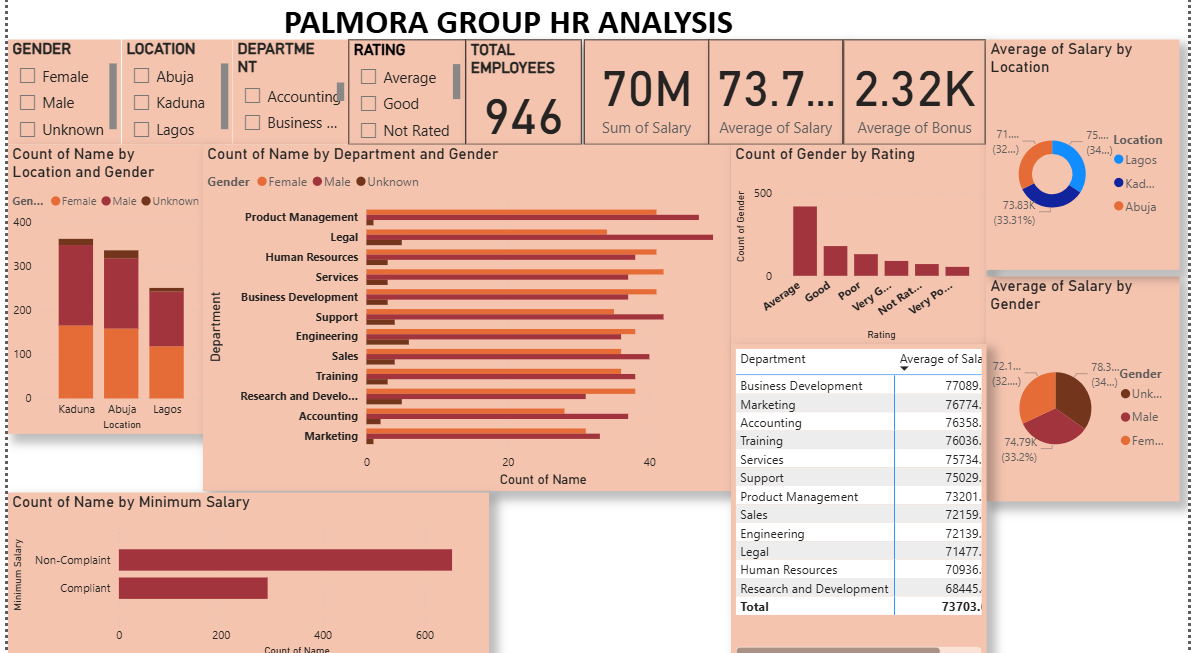

The dashboard page shown, as its layout file describes it:
{"tool":"powerbi","page":{"name":"Page 1","canvas":[1280,720],"ordinal":0},"visuals":[{"type":"textbox","box":[244.2,0,597.7,71.5],"z":0},{"type":"slicer","title":"GENDER","fields":{"Values":["Palmoria+Group+emp-data.Gender"]},"box":[0,47.1,122.9,114.3],"z":1000},{"type":"slicer","title":"LOCATION","fields":{"Values":["Palmoria+Group+emp-data.Location"]},"box":[124.3,47.1,120,114.3],"z":2000},{"type":"slicer","title":"DEPARTMENT","fields":{"Values":["Palmoria+Group+emp-data.Department"]},"box":[244.3,47.1,125.7,114.3],"z":3000},{"type":"slicer","title":"RATING","fields":{"Values":["Palmoria+Group+emp-data.Rating"]},"box":[370,47.1,127.1,114.3],"z":4000},{"type":"card","title":"TOTAL EMPLOYEES","fields":{"Values":["Palmoria+Group+emp-data.Name"]},"box":[497.1,47.1,125.7,114.3],"z":5000},{"type":"card","fields":{"Values":["Palmoria+Group+emp-data.Salary"]},"box":[624.3,47.1,135.7,114.3],"z":6000},{"type":"card","fields":{"Values":["Palmoria+Group+emp-data.Salary"]},"box":[760,47,147,114],"z":7000},{"type":"card","fields":{"Values":["Palmoria+Group+emp-data.Bonus"]},"box":[907.1,47.1,154.3,114.3],"z":8000},{"type":"columnChart","fields":{"Category":["Palmoria+Group+emp-data.Location"],"Y":["Palmoria+Group+emp-data.Name"],"Series":["Palmoria+Group+emp-data.Gender"]},"box":[0,161.4,217.1,314.3],"z":9000},{"type":"clusteredBarChart","fields":{"Category":["Palmoria+Group+emp-data.Department"],"Y":["Palmoria+Group+emp-data.Name"],"Series":["Palmoria+Group+emp-data.Gender"]},"box":[211.4,161.4,572.9,375.7],"z":10000},{"type":"columnChart","fields":{"Category":["Palmoria+Group+emp-data.Rating"],"Y":["Palmoria+Group+emp-data.Gender"]},"box":[784.3,161.4,277.1,217.1],"z":11000},{"type":"pieChart","fields":{"Category":["Palmoria+Group+emp-data.Gender"],"Y":["Palmoria+Group+emp-data.Salary"]},"box":[1062,304,210,244],"z":12000},{"type":"donutChart","fields":{"Category":["Palmoria+Group+emp-data.Location"],"Y":["Palmoria+Group+emp-data.Salary"]},"box":[1061.4,47.1,210,250],"z":13000},{"type":"pivotTable","fields":{"Rows":["Palmoria+Group+emp-data.Department"],"Values":["Palmoria+Group+emp-data.Salary"]},"box":[784.3,377.1,277.1,342.9],"z":14000},{"type":"clusteredBarChart","fields":{"Category":["Palmoria+Group+emp-data.Minimum Salary"],"Y":["Palmoria+Group+emp-data.Name"]},"box":[0,538,522,182],"z":15000}]}

Visuals, with their boxes on the page's 1280x720 design canvas (x1, y1, x2, y2). These are canvas units, not pixel positions in the 1197x653 screenshot, which may show the page scaled, cropped or inside an application window:
textbox: BBox(244, 0, 842, 72)
"GENDER" slicer: BBox(0, 47, 123, 161)
"LOCATION" slicer: BBox(124, 47, 244, 161)
"DEPARTMENT" slicer: BBox(244, 47, 370, 161)
"RATING" slicer: BBox(370, 47, 497, 161)
"TOTAL EMPLOYEES" card: BBox(497, 47, 623, 161)
card - Palmoria+Group+emp-data.Salary: BBox(624, 47, 760, 161)
card - Palmoria+Group+emp-data.Salary: BBox(760, 47, 907, 161)
card - Palmoria+Group+emp-data.Bonus: BBox(907, 47, 1061, 161)
columnChart - Palmoria+Group+emp-data.Location x Palmoria+Group+emp-data.Name: BBox(0, 161, 217, 476)
clusteredBarChart - Palmoria+Group+emp-data.Department x Palmoria+Group+emp-data.Name: BBox(211, 161, 784, 537)
columnChart - Palmoria+Group+emp-data.Rating x Palmoria+Group+emp-data.Gender: BBox(784, 161, 1061, 378)
pieChart - Palmoria+Group+emp-data.Gender x Palmoria+Group+emp-data.Salary: BBox(1062, 304, 1272, 548)
donutChart - Palmoria+Group+emp-data.Location x Palmoria+Group+emp-data.Salary: BBox(1061, 47, 1271, 297)
pivotTable - Palmoria+Group+emp-data.Department x Palmoria+Group+emp-data.Salary: BBox(784, 377, 1061, 720)
clusteredBarChart - Palmoria+Group+emp-data.Minimum Salary x Palmoria+Group+emp-data.Name: BBox(0, 538, 522, 720)
